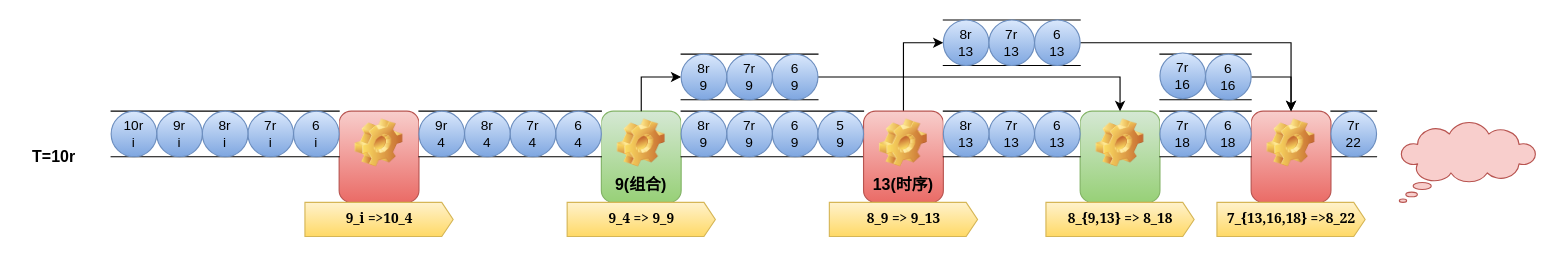
Image size: 1556x257. Some labels were removed from this diagram. The centre of each missing label's shape, as x and y in pixels:
18(组合): (x=1119, y=156)
22(时序): (x=1290, y=156)
4(时序): (x=378, y=156)
恢复完成: (x=1467, y=161)
